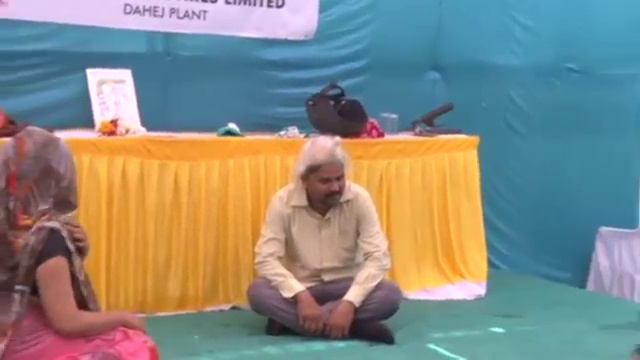helmet_off: (7, 125, 77, 222), (302, 139, 349, 207)
person: (1, 121, 161, 360), (249, 134, 410, 346)
